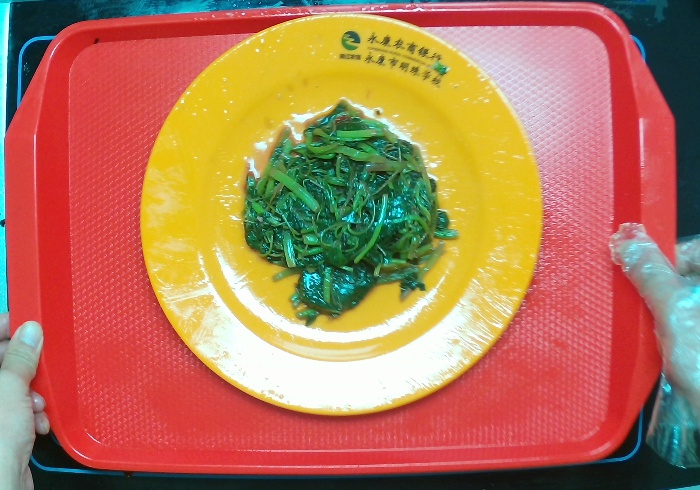YKMZ-Ju_Se_Mian_Pan: (132, 7, 549, 421)
